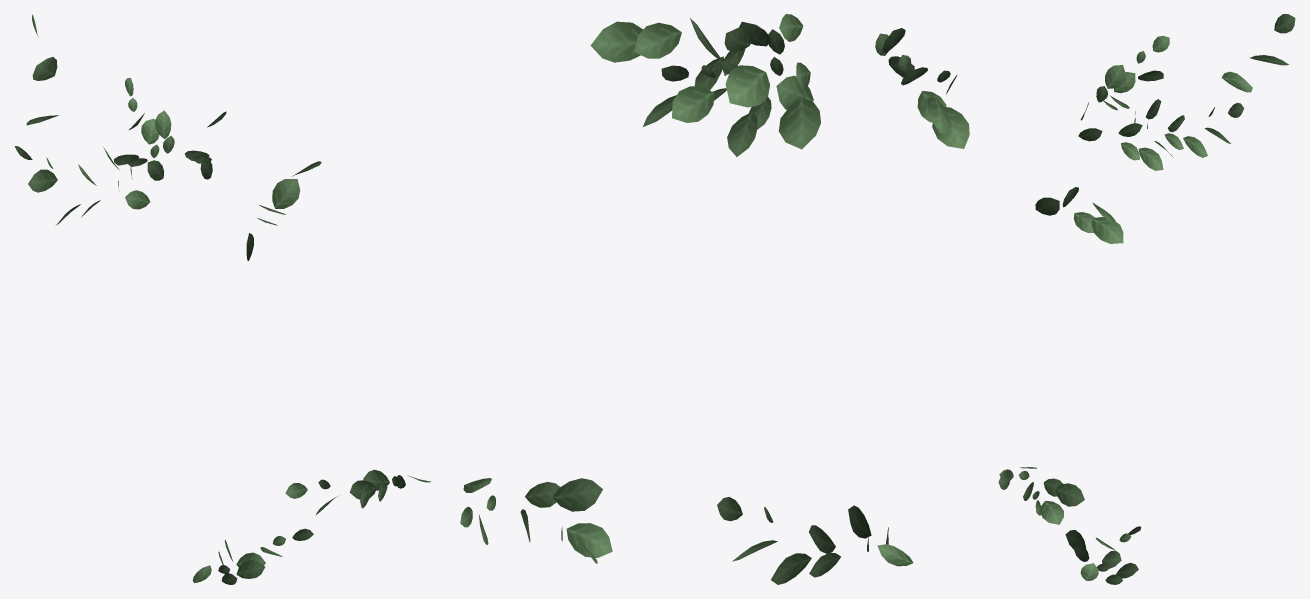
The model's file is ExtraVineLeaves.glb.
The picture shows the model from 3 angles, left to right: view 1: azimuth 30°, elevation 25°; view 2: azimuth 150°, elevation 25°; view 3: azimuth 270°, elevation 25°; orthographic projection. The views are drawn at different scales.
Parts seen in each view (by area): view 1: Plane.140; view 2: Plane.085, Plane.086, Plane.139, Plane.053, Plane.033, Plane.023, Plane.022, Plane.032, Plane.042, Plane.136, Plane.012; view 3: Plane.138, Plane.012, Plane.013, Plane.045.
Part boxes in pixels (x1,y1,x2,y2): Plane.140: (272,179,300,208); Plane.085: (778,98,820,149); Plane.086: (725,65,769,107); Plane.139: (590,21,643,62); Plane.053: (634,22,681,58); Plane.033: (672,86,714,122); Plane.023: (566,523,612,557); Plane.022: (552,478,602,511); Plane.032: (727,112,757,156); Plane.042: (932,107,969,148); Plane.136: (776,75,813,109); Plane.012: (771,553,811,584); Plane.138: (1091,217,1123,243); Plane.012: (1055,483,1084,506); Plane.013: (1041,500,1063,524); Plane.045: (1105,65,1125,88).
Bounding box in the file's own units: 4.47 × 5.52 × 3.27.
1 material, 1 textured.
